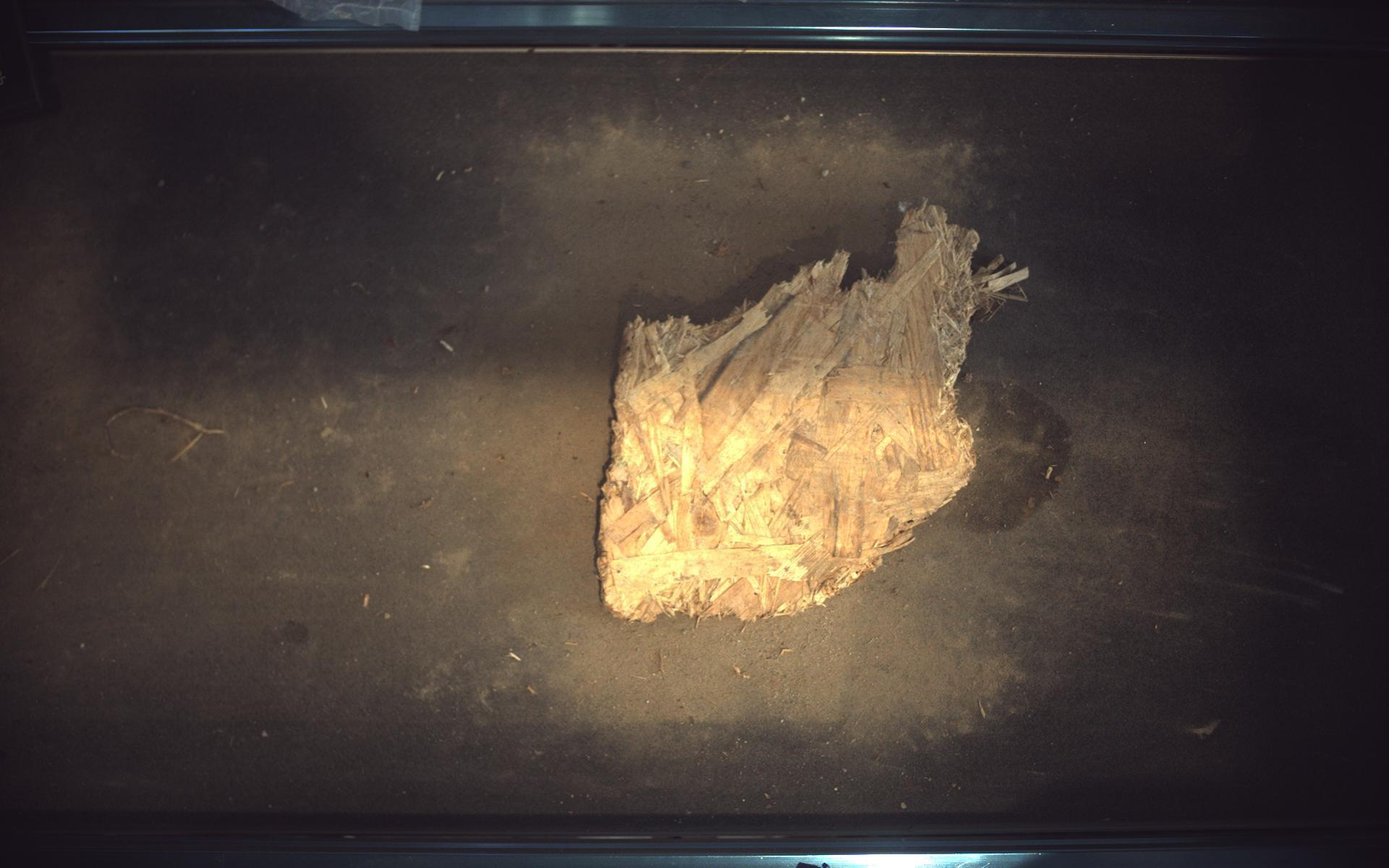wood: (598, 203, 1029, 621)
